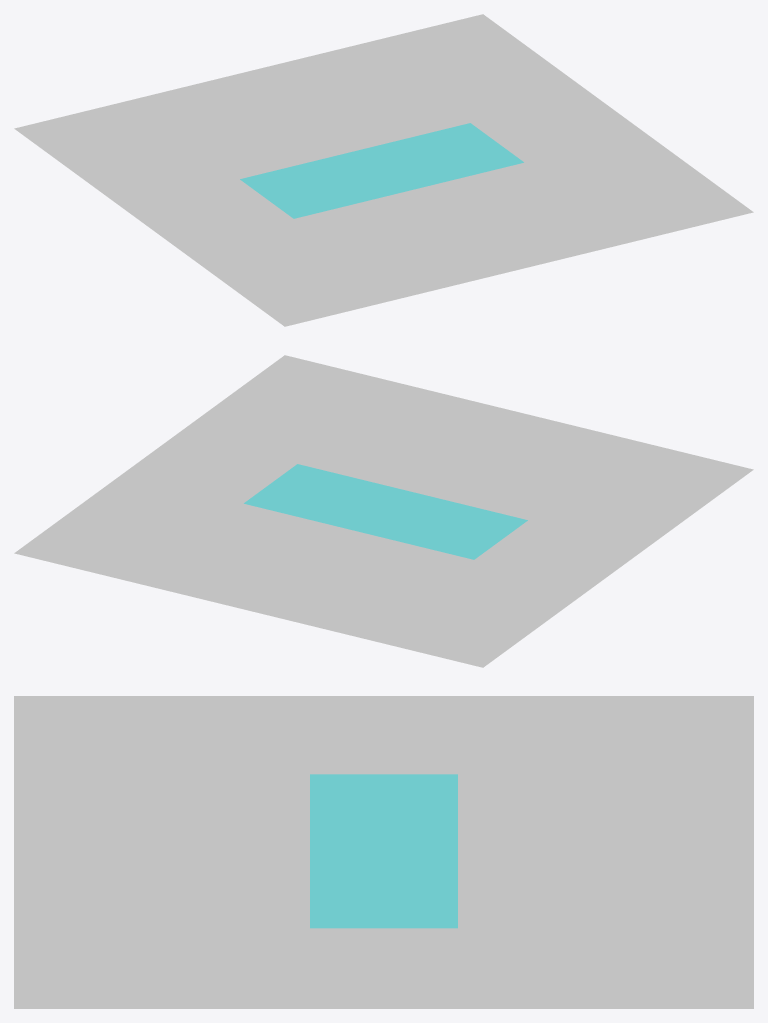
Rendered from windowsWall.fbx.
3 renders of one model, top to bottom at view 1: azimuth 30°, elevation 25°; view 2: azimuth 150°, elevation 25°; view 3: azimuth 270°, elevation 25°, orthographic. The views are drawn at different scales.
Visible parts, largest first — view 1: Plane; view 2: Plane; view 3: Plane.
Boxes of the visible parts, x1=… form: Plane: x1=14, y1=14, x2=753, y2=326; Plane: x1=14, y1=355, x2=753, y2=667; Plane: x1=14, y1=696, x2=753, y2=1008.
Bounding box in the file's own units: 2000 × 0.000326 × 2000.
